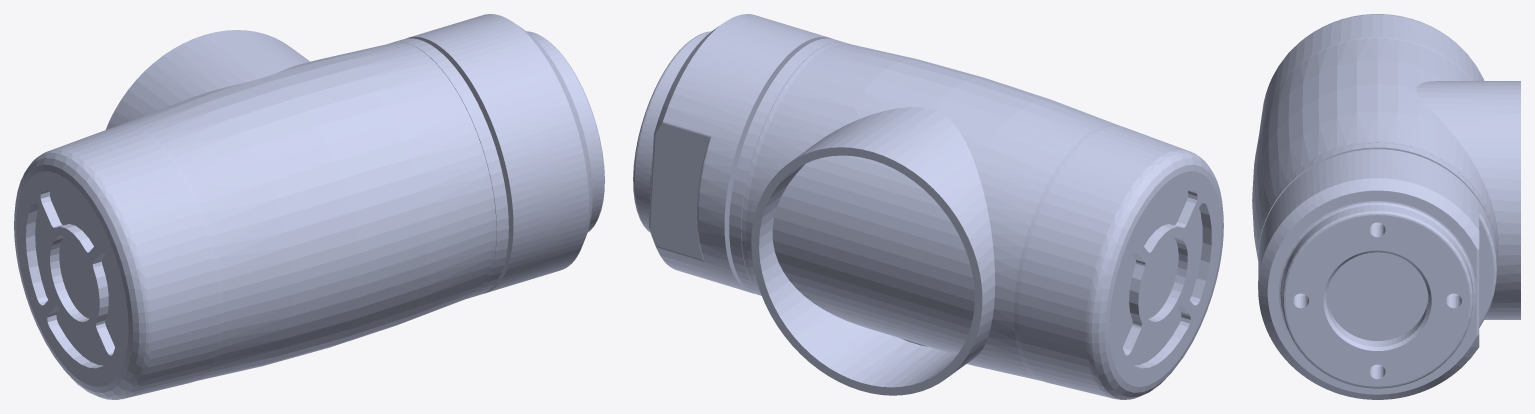
The model's file is jaka5.fbx.
The picture shows the model from 3 angles, left to right: view 1: azimuth 30°, elevation 25°; view 2: azimuth 150°, elevation 25°; view 3: azimuth 270°, elevation 25°; orthographic projection. The views are drawn at different scales.
Visible parts, largest first — view 1: _2, _5; view 2: _2, _5; view 3: _5, _2.
Boxes of the visible parts, box(x1,y1,x2,y2) form: _2: box(14, 30, 508, 399); _5: box(406, 14, 604, 293); _2: box(729, 38, 1223, 399); _5: box(633, 14, 831, 293); _5: box(1258, 149, 1496, 399); _2: box(1252, 14, 1520, 319).
Size of the model in its own units: 159 by 81.78 by 84.4.
